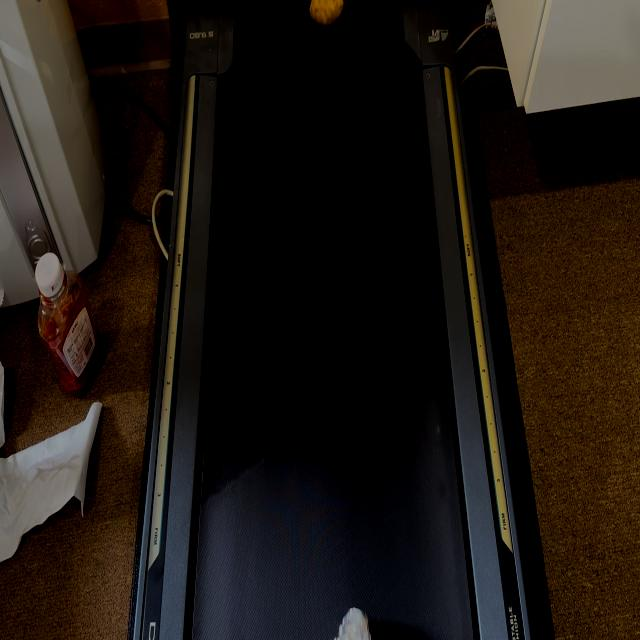Trash: (335, 593, 385, 639), (312, 1, 358, 30)
